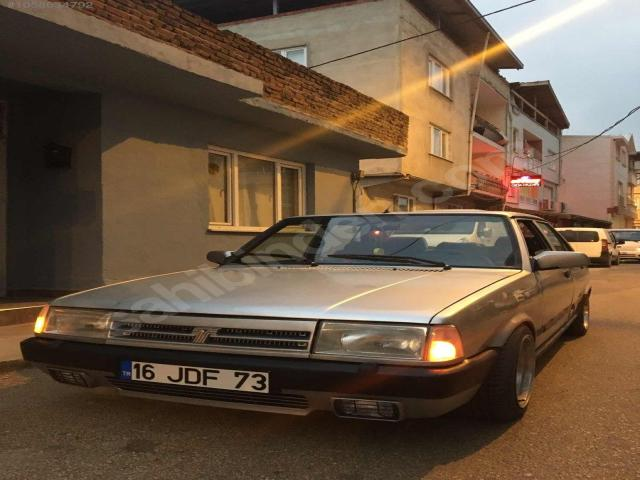plaka: (120, 361, 269, 393)
